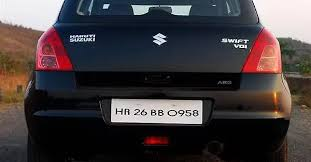Swift: (21, 0, 297, 157)
